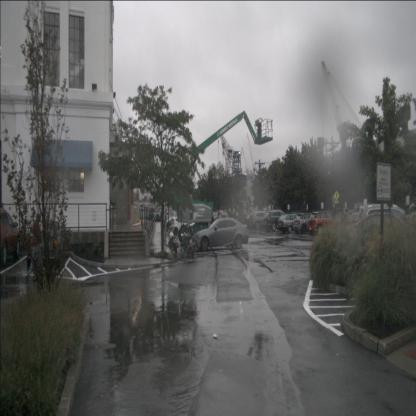human-pedestrian-adult: (27, 213, 45, 277)
vehicle-car: (338, 212, 416, 256), (354, 204, 416, 253), (27, 220, 65, 268), (194, 218, 249, 251), (0, 209, 20, 267), (308, 211, 336, 236), (264, 210, 290, 232), (276, 214, 306, 233), (292, 213, 316, 234), (248, 211, 271, 229), (171, 217, 194, 235), (165, 216, 184, 232)
vehicle-motorcycle: (182, 231, 194, 259), (168, 232, 179, 254)
